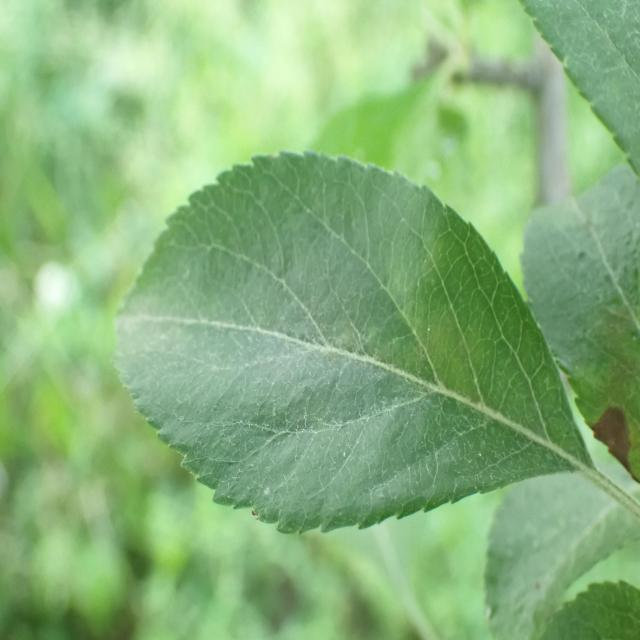scab: (146, 161, 513, 502)
